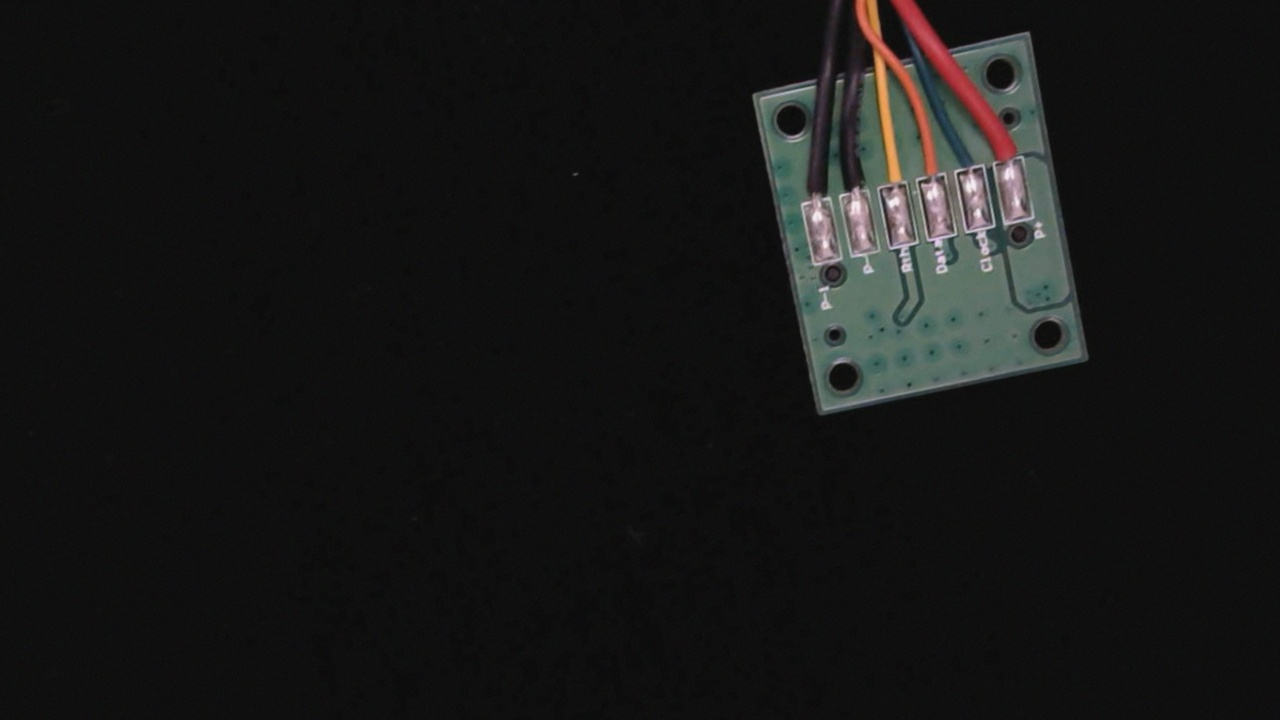Black: (829, 140, 872, 217)
Black1: (792, 156, 833, 221)
Green: (948, 128, 987, 191)
Orange: (907, 132, 948, 202)
Red: (982, 113, 1026, 186)
Yellow: (867, 131, 909, 209)
